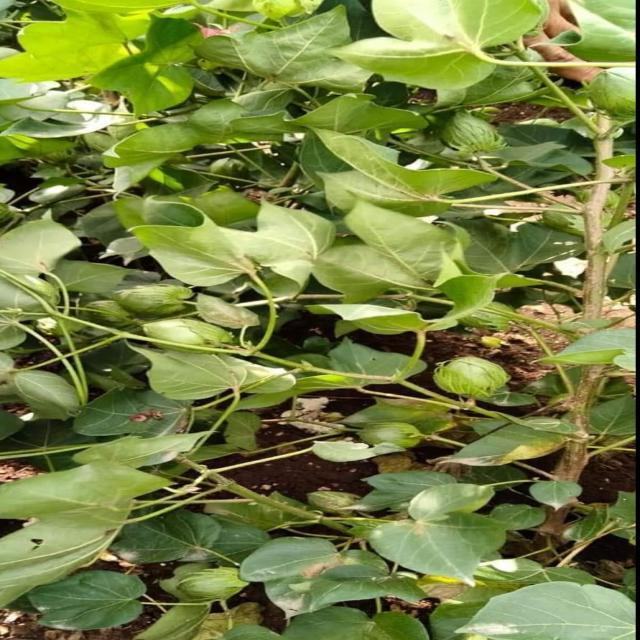Early Boll: (420, 354, 516, 400), (141, 317, 236, 353), (172, 564, 257, 604), (438, 111, 509, 152), (114, 282, 198, 313), (587, 67, 635, 120), (356, 420, 424, 451)
